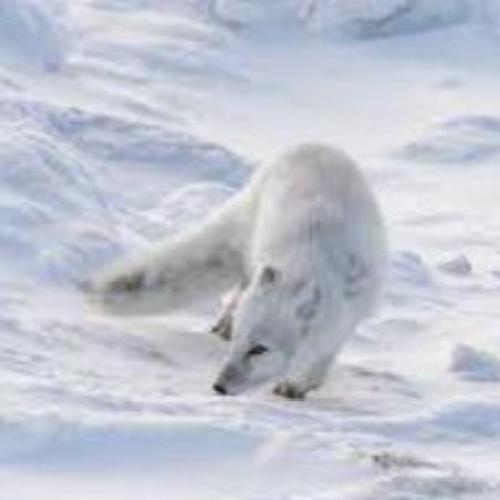arctic_fox-endangered: (82, 142, 390, 400)
